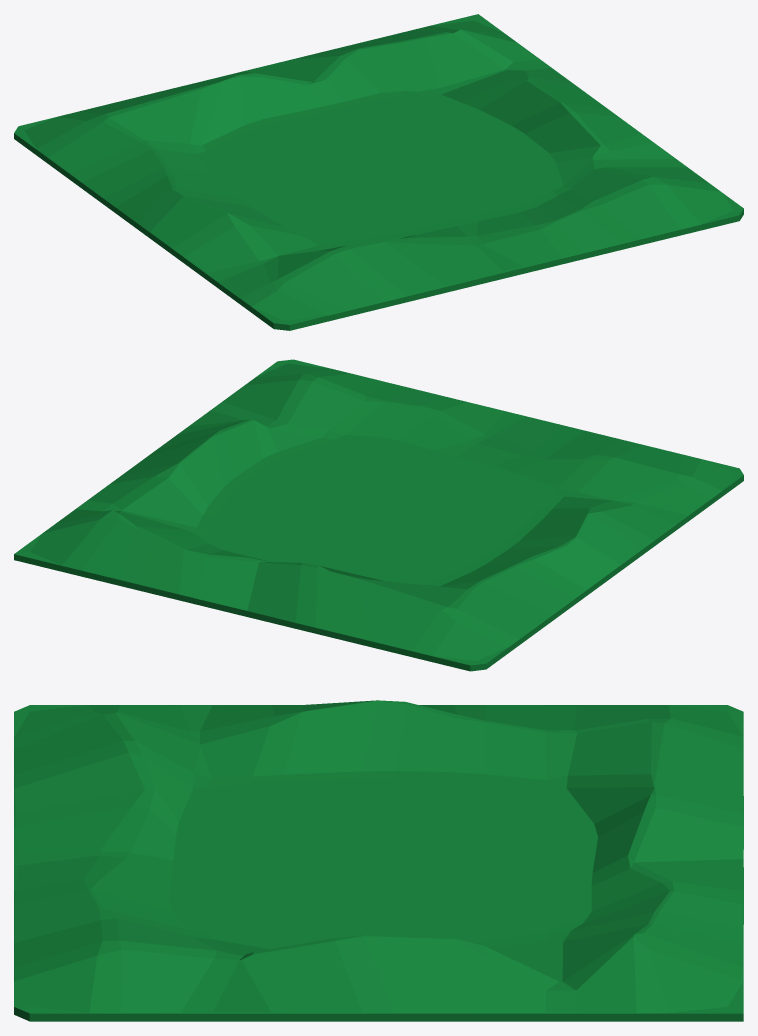
The model's file is combatGround.fbx.
3 renders of one model, top to bottom at view 1: azimuth 30°, elevation 25°; view 2: azimuth 150°, elevation 25°; view 3: azimuth 270°, elevation 25°, orthographic. The views are drawn at different scales.
Parts seen in each view (by area): view 1: Cube; view 2: Cube; view 3: Cube.
Boxes of the visible parts, x1,y1,x2,y2 form: Cube: (14, 14, 743, 330); Cube: (14, 359, 743, 671); Cube: (14, 700, 743, 1021).
Size of the model in its own units: 4000 by 289 by 4001.
